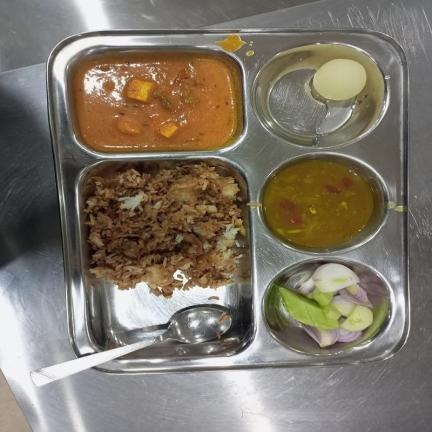Chhaina: (312, 57, 367, 101)
Dal: (263, 162, 375, 247)
Fried Rice: (86, 162, 246, 294)
Paneer: (73, 52, 237, 155)
Plate: (46, 28, 411, 374)
Salad: (278, 264, 374, 350)
